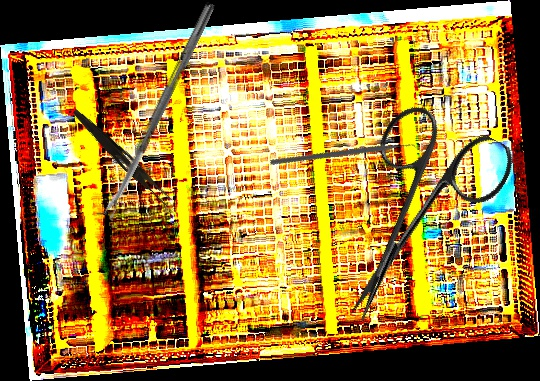Chopper: (268, 82, 425, 233)
Dressing Forceps: (67, 107, 176, 207)
Iris Scissors: (301, 92, 521, 350)
Surgical Spoon: (102, 1, 216, 218)
